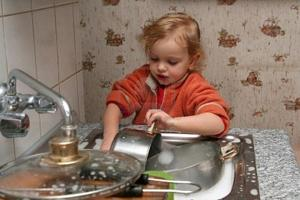person: (101, 13, 231, 151)
